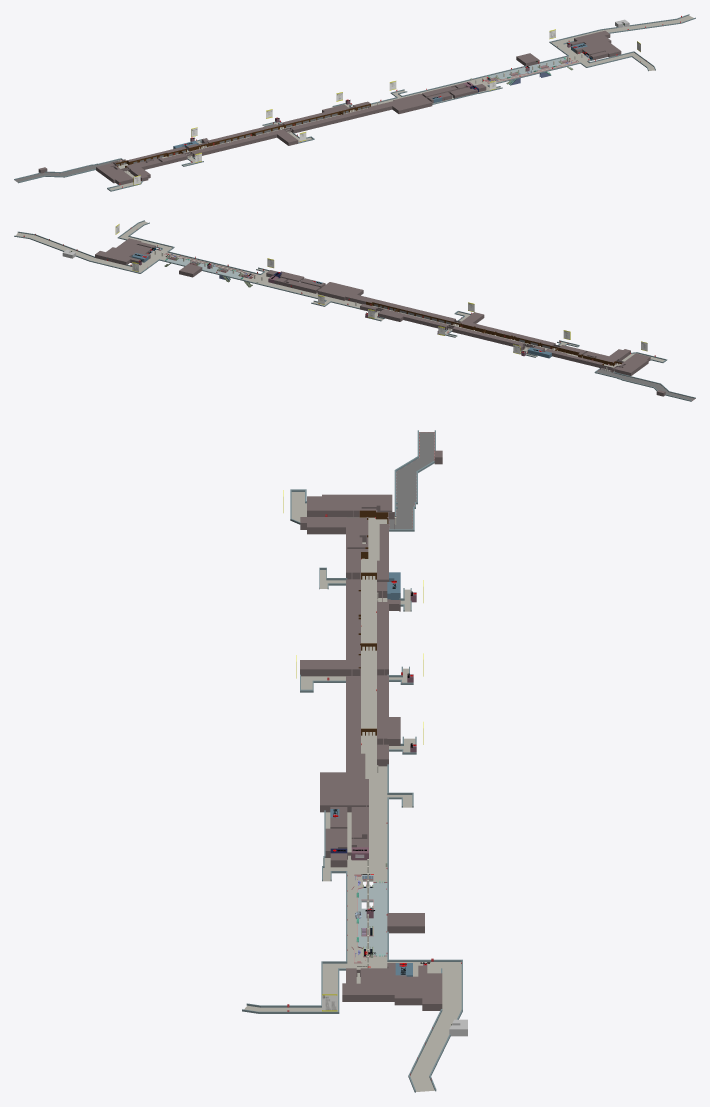
The model's file is psop-whgj-qsl-b1.345c0c8.glb.
The picture shows the model from 3 angles, top to bottom: view 1: azimuth 30°, elevation 25°; view 2: azimuth 150°, elevation 25°; view 3: azimuth 270°, elevation 25°; orthographic projection. The views are drawn at different scales.
Visible parts, largest first — view 1: Layer:WALL-砼, road-b1-1, Object014, Object034, road-b1-2, road-b1-3; view 2: Layer:WALL-砼, road-b1-1, Object014, Object034, road-b1-3, road-b1-2; view 3: Layer:WALL-砼, road-b1-1, Object014, road-b1-3, road-b1-2.
Boxes of the visible parts, x1,y1,x2,y2 form: Layer:WALL-砼: [96, 30, 621, 185]; road-b1-1: [109, 15, 693, 190]; Object014: [14, 14, 695, 191]; Object034: [115, 104, 370, 167]; road-b1-2: [489, 58, 566, 79]; road-b1-3: [14, 159, 126, 182]; Layer:WALL-砼: [95, 238, 650, 375]; road-b1-1: [16, 221, 664, 370]; Object014: [14, 220, 695, 401]; Object034: [366, 301, 621, 366]; road-b1-3: [597, 368, 694, 400]; road-b1-2: [166, 258, 242, 278]; Layer:WALL-砼: [300, 494, 442, 1010]; road-b1-1: [244, 492, 461, 1091]; Object014: [242, 430, 462, 1092]; road-b1-3: [389, 432, 434, 529]; road-b1-2: [358, 882, 387, 956].
Bounding box in the file's own units: 812 × 22.5 × 118.
40 materials, 8 textured.
